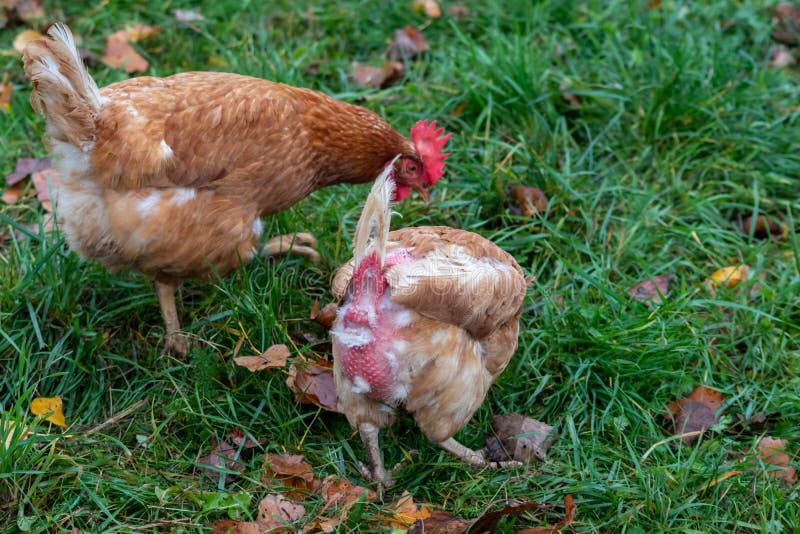Healthy: (1, 19, 445, 343)
